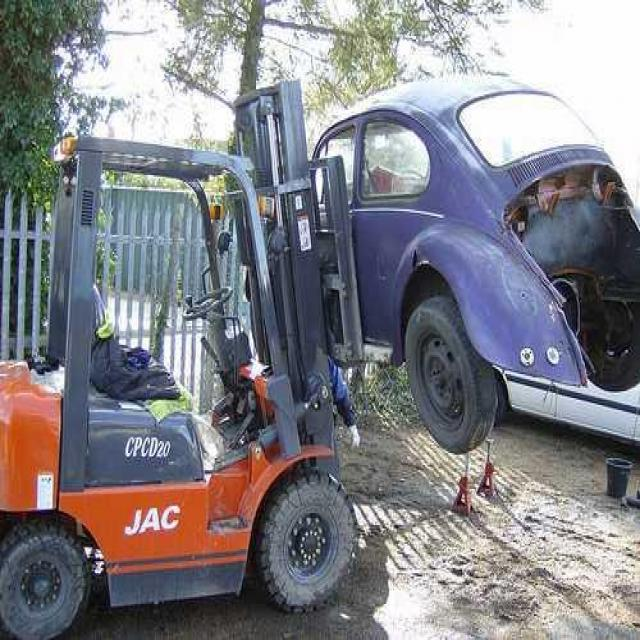Chariot elevateur: (0, 72, 360, 635)
